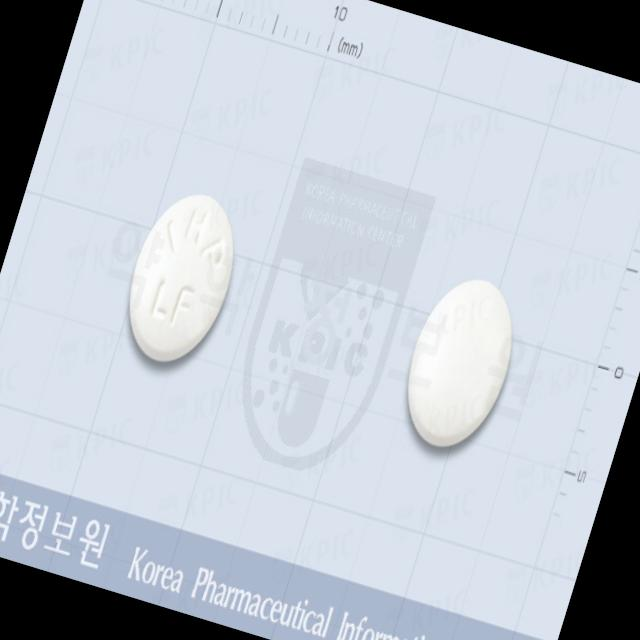Lesacin: (108, 176, 254, 376), (389, 262, 533, 463)
